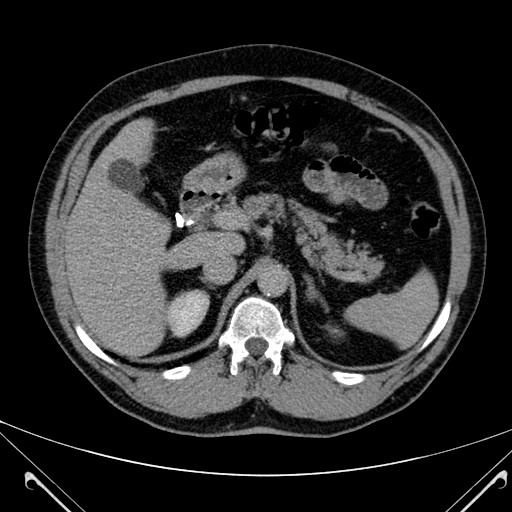clipe: (174, 212, 195, 228), (174, 212, 185, 229), (185, 219, 195, 227)
